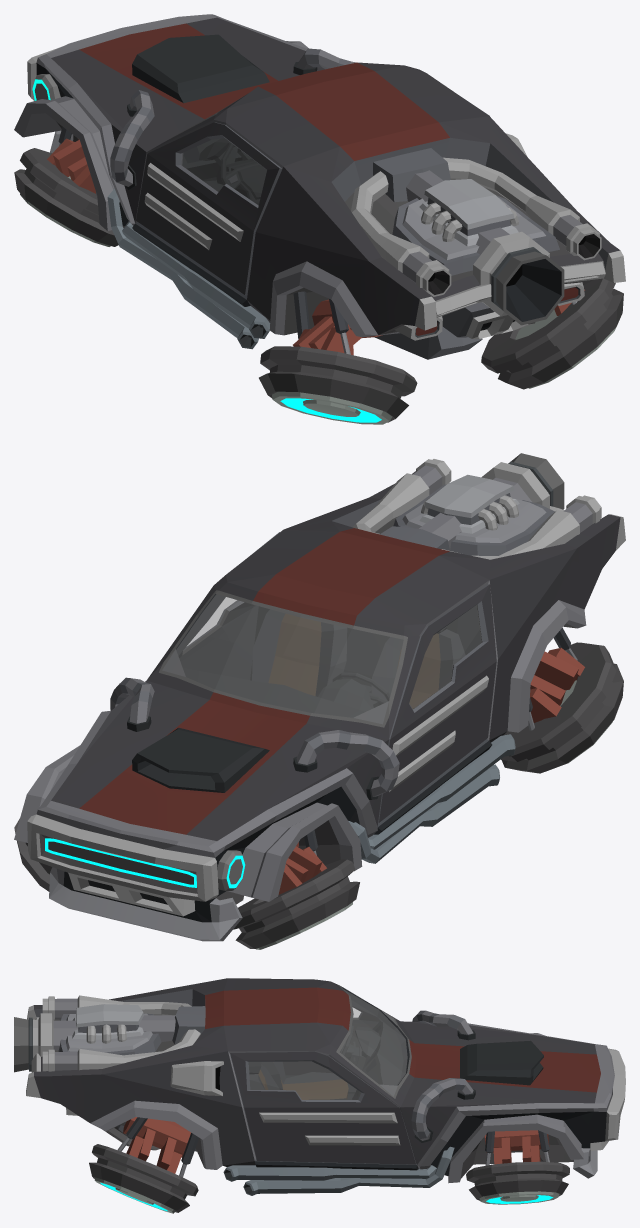
Rendered from SM_Veh_Classic_01_Hover.gltf.
The picture shows the model from 3 angles, top to bottom: view 1: azimuth 30°, elevation 25°; view 2: azimuth 150°, elevation 25°; view 3: azimuth 270°, elevation 25°; orthographic projection. The views are drawn at different scales.
Visible parts, largest first — view 1: SM_Veh_Classic_01_Hover, SM_Veh_Classic_01_L_Door_Hover, SM_Veh_Classic_01_Wheel_rl_Hover, SM_Veh_Classic_01_Wheel_rr_Hover, SM_Veh_Classic_01_Wheel_fl_Hover, SM_Veh_Classic_01_L_Door_Glass_Hover, SM_Veh_Classic_01_SteeringW; view 2: SM_Veh_Classic_01_Hover, SM_Veh_Classic_01_Glass_Hover, SM_Veh_Classic_01_L_Door_Hover, SM_Veh_Classic_01_Wheel_rl_Hover, SM_Veh_Classic_01_Wheel_fl_Hover, SM_Veh_Classic_01_R_Door_Hover, SM_Veh_Classic_01_L_Door_Glass_Hover, SM_Veh_Classic_01_Wheel_fr_Hover; view 3: SM_Veh_Classic_01_Hover, SM_Veh_Classic_01_R_Door_Hover, SM_Veh_Classic_01_Wheel_rr_Hover, SM_Veh_Classic_01_Wheel_fr_Hover, SM_Veh_Classic_01_Glass_Hover, SM_Veh_Classic_01_R_Door_Glass_Hover, SM_Veh_Classic_01_L_Door_Hover.
Part boxes in pixels (x1,y1,x2,y2): SM_Veh_Classic_01_Hover: (14, 14, 625, 359); SM_Veh_Classic_01_L_Door_Hover: (136, 122, 282, 295); SM_Veh_Classic_01_Wheel_rl_Hover: (259, 291, 417, 424); SM_Veh_Classic_01_Wheel_rr_Hover: (481, 278, 623, 389); SM_Veh_Classic_01_Wheel_fl_Hover: (14, 126, 124, 246); SM_Veh_Classic_01_L_Door_Glass_Hover: (181, 138, 266, 205); SM_Veh_Classic_01_SteeringW: (221, 143, 266, 205); SM_Veh_Classic_01_Hover: (14, 453, 625, 941); SM_Veh_Classic_01_Glass_Hover: (176, 594, 403, 717); SM_Veh_Classic_01_L_Door_Hover: (378, 584, 496, 823); SM_Veh_Classic_01_Wheel_rl_Hover: (501, 627, 623, 773); SM_Veh_Classic_01_Wheel_fl_Hover: (233, 830, 359, 949); SM_Veh_Classic_01_R_Door_Hover: (178, 532, 279, 679); SM_Veh_Classic_01_L_Door_Glass_Hover: (409, 605, 481, 708); SM_Veh_Classic_01_Wheel_fr_Hover: (14, 818, 52, 891); SM_Veh_Classic_01_Hover: (14, 978, 625, 1195); SM_Veh_Classic_01_R_Door_Hover: (230, 1051, 416, 1164); SM_Veh_Classic_01_Wheel_rr_Hover: (89, 1117, 198, 1213); SM_Veh_Classic_01_Wheel_fr_Hover: (466, 1130, 569, 1204); SM_Veh_Classic_01_Glass_Hover: (340, 990, 407, 1085); SM_Veh_Classic_01_R_Door_Glass_Hover: (248, 1061, 360, 1099); SM_Veh_Classic_01_L_Door_Hover: (283, 1006, 379, 1075).
Size of the model in its own units: 2.83 by 1.85 by 5.97.
2 materials, 1 textured.
